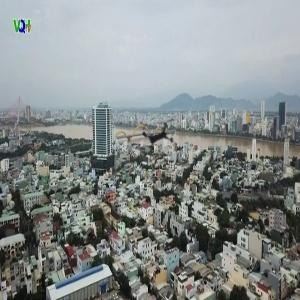drone: (128, 103, 191, 166)
